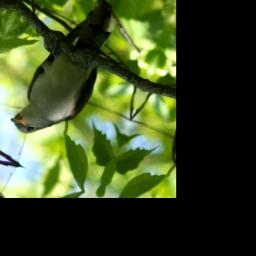Cuckoo: (7, 0, 128, 152)
